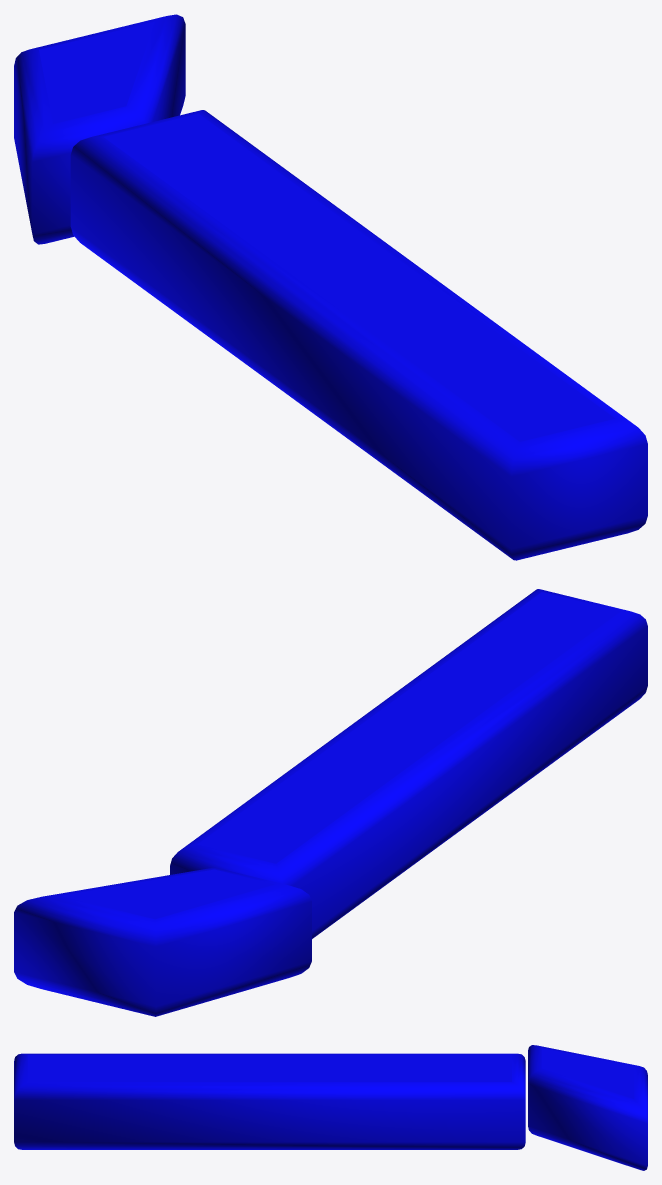
3 views of the same model, one above another, from view 1: azimuth 30°, elevation 25°; view 2: azimuth 150°, elevation 25°; view 3: azimuth 270°, elevation 25° (orthographic). The views are drawn at different scales.
Visible parts, largest first — view 1: 205; view 2: 205; view 3: 205.
Part boxes in pixels (x1=…): 205: x1=14, y1=14, x2=647, y2=560; 205: x1=14, y1=589, x2=647, y2=1016; 205: x1=14, y1=1045, x2=647, y2=1170.
Size of the model in its own units: 0.3738 by 0.16 by 1.38.
